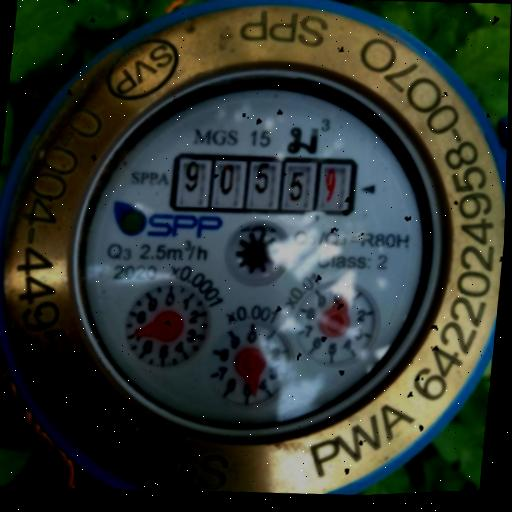0: (214, 164, 238, 207)
5: (250, 166, 274, 210), (286, 168, 310, 209)
9: (321, 168, 347, 209), (180, 164, 205, 206)
border_water_meter_number: (169, 145, 360, 225)
